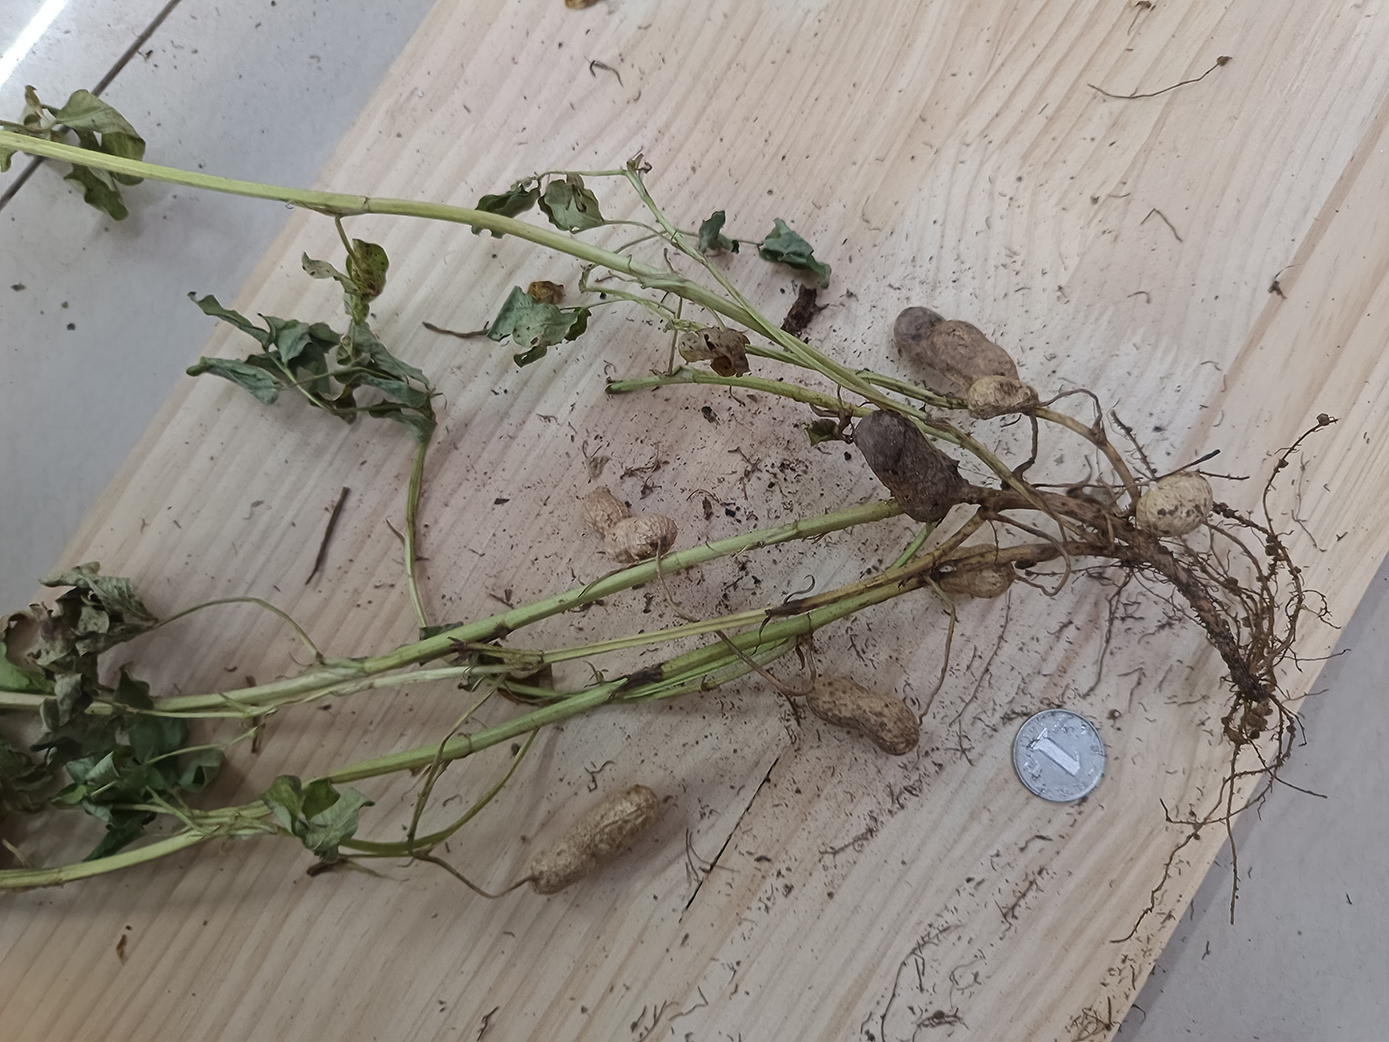h: (528, 786, 659, 894), (809, 679, 919, 757), (583, 491, 676, 563), (1138, 473, 1214, 535), (940, 543, 1012, 597), (969, 377, 1029, 421)
l: (850, 412, 954, 524), (894, 306, 1021, 385)
